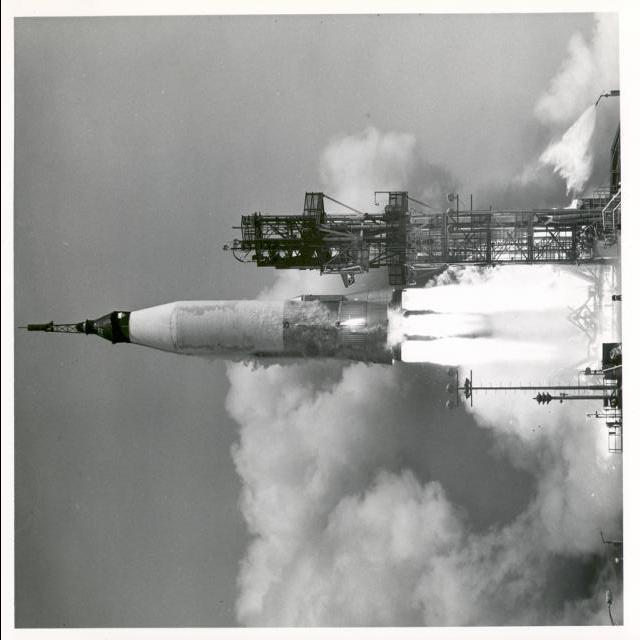missile: (11, 284, 463, 379)
